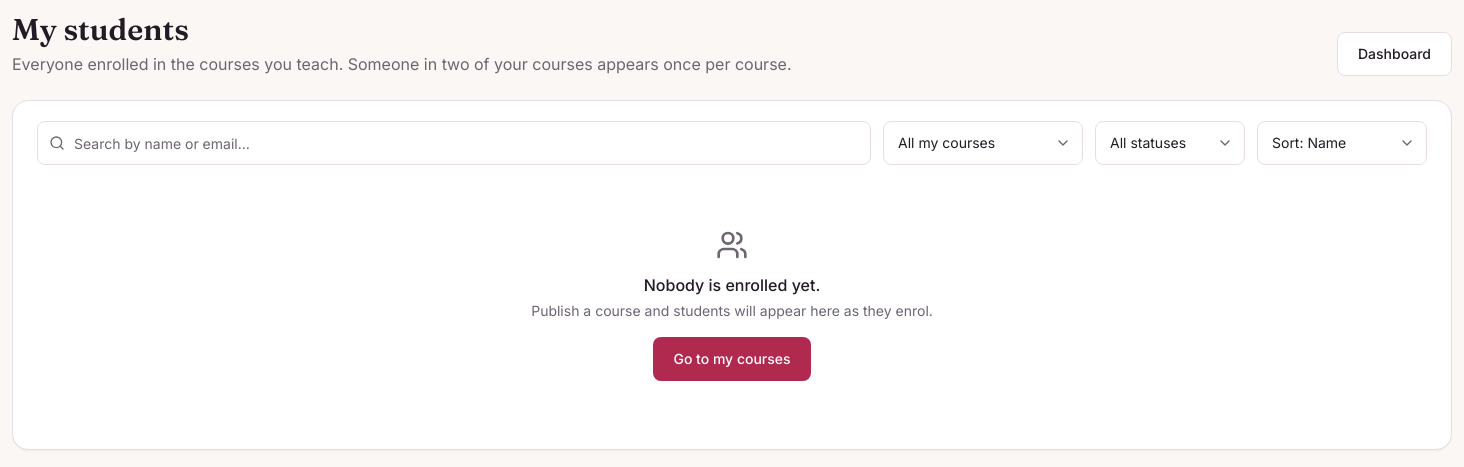
it: InstructorStudentsPage › distinguishes an empty roster from an empty filter result
The image size is (1464, 467).
expect the text "Nobody is enrolled yet." is shown: met, box left=644, top=275, right=820, bottom=295
expect the link "Go to my courses" is shown: met, box left=653, top=348, right=811, bottom=368
Type "nobody" into the search field named "Search students" at (454, 143), box left=37, top=121, right=871, bottom=165
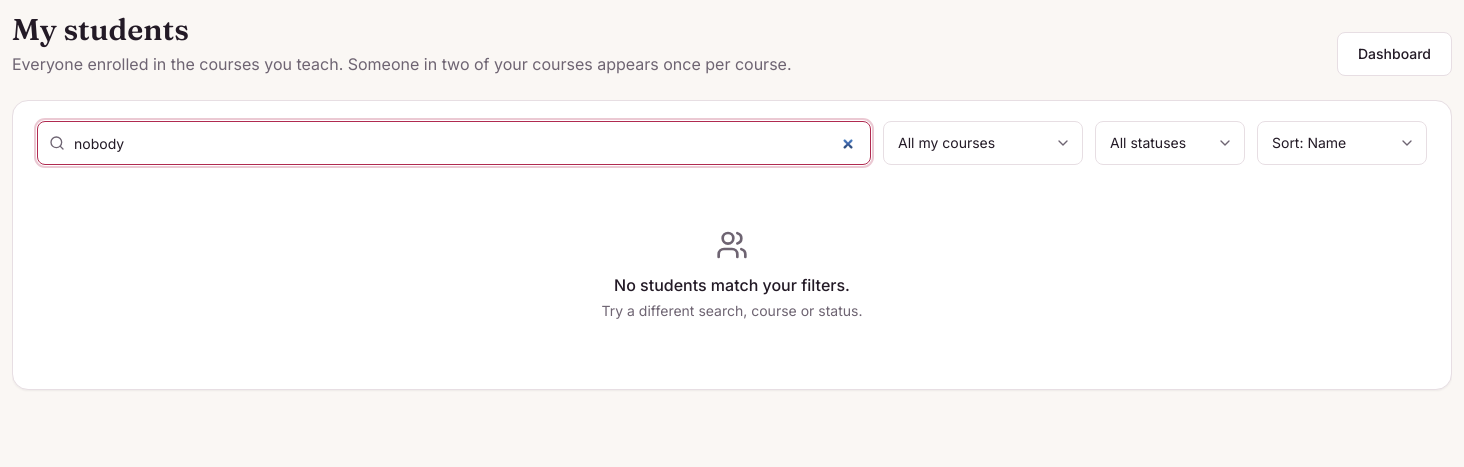
expect the text "No students match your filters." is shown: met, box left=614, top=275, right=850, bottom=295
expect the button "Go to my courses" is gone: met
